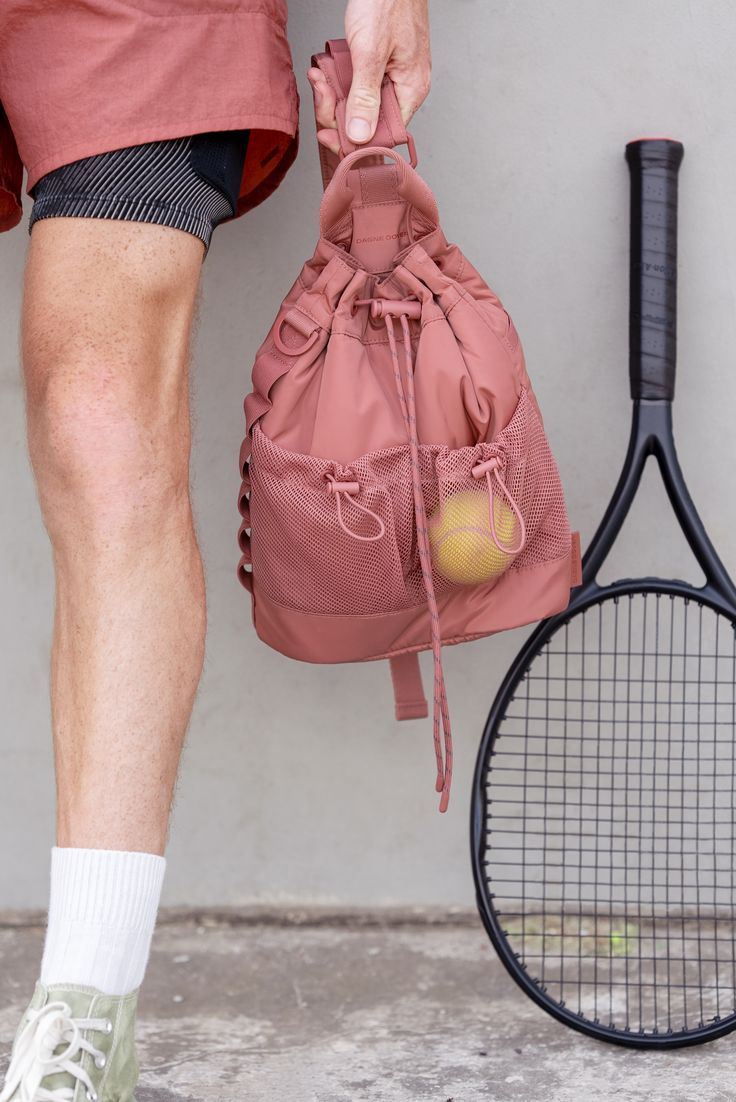nylon: (238, 43, 582, 726)
